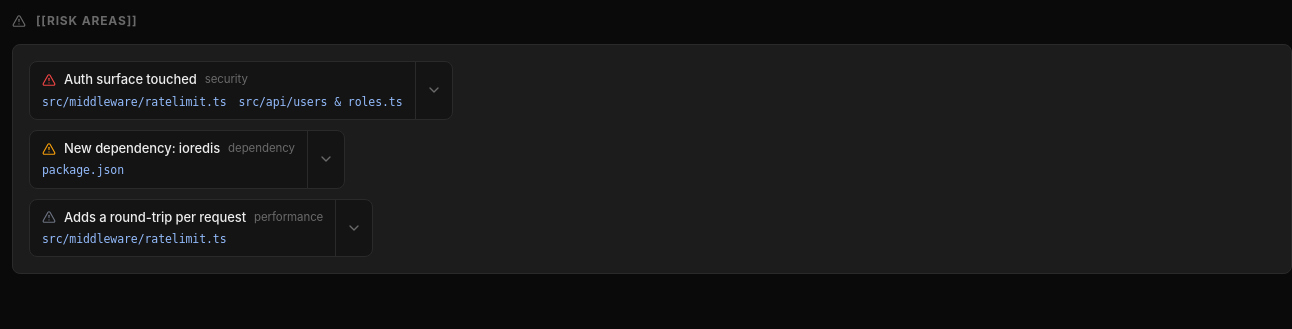
it: BriefRiskAreas — every visible string comes from the catalog (NFR-10) › a list with one expanded risk
Click the button named "[ [Show explanation: Auth surface touched]]": click(433, 90) [414, 62, 452, 119]
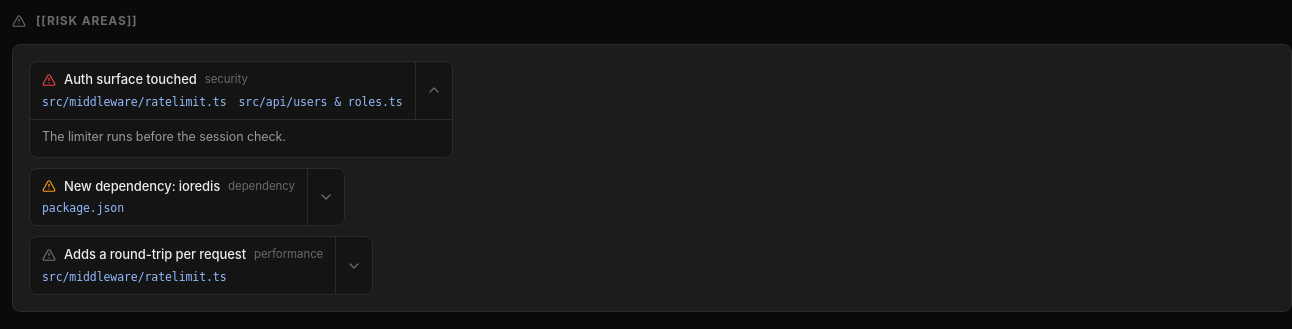
Now the text "The limiter runs before the session check." is shown, box [30, 119, 452, 157]
